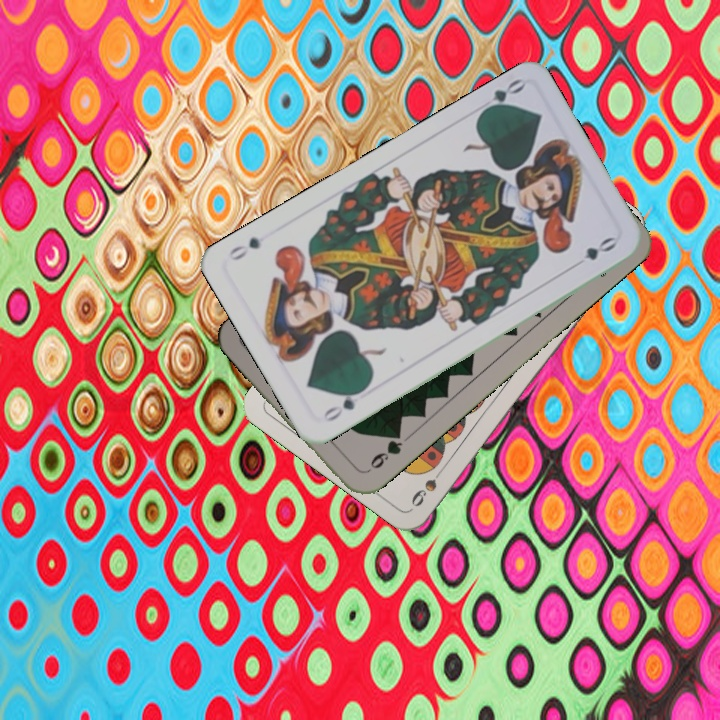G9: (361, 427, 405, 476)
GO: (475, 74, 527, 119), (319, 384, 369, 425)
S9: (406, 459, 450, 510)
